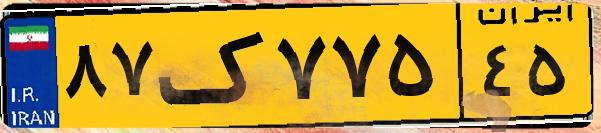4: (475, 38, 525, 113)
5: (385, 28, 445, 110), (525, 38, 570, 115)
7: (270, 28, 330, 110), (330, 28, 385, 110), (110, 28, 158, 98)
8: (57, 26, 110, 100)
ک: (158, 12, 270, 120)
